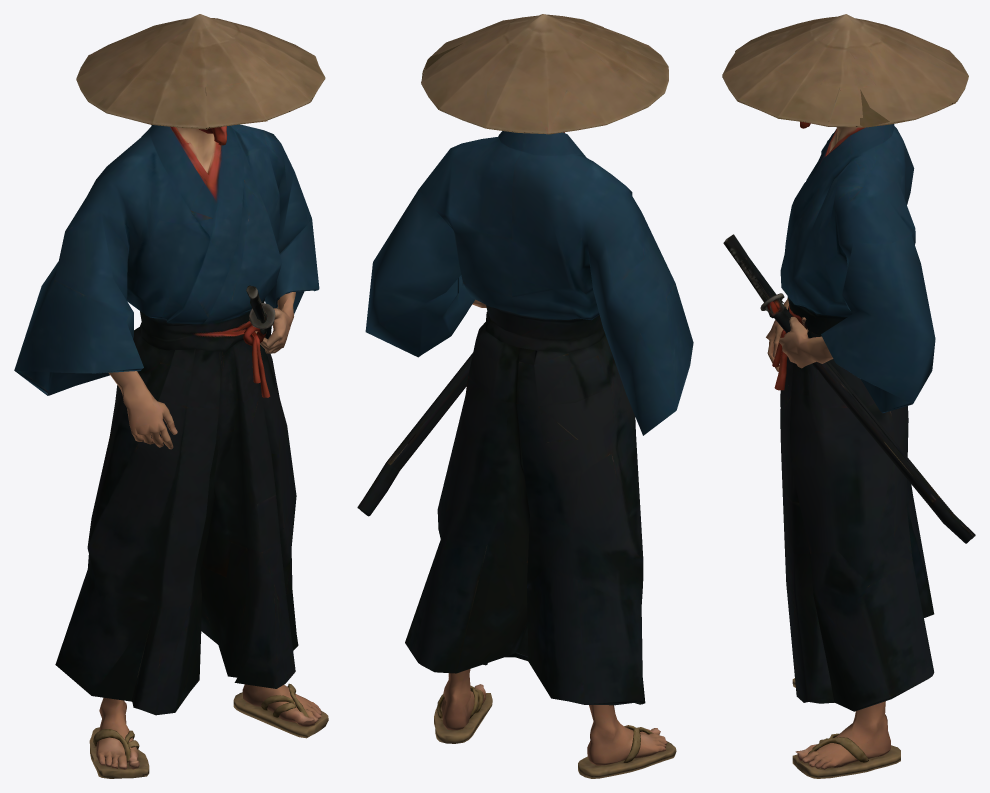
3 views of the same model, side by side, from view 1: azimuth 30°, elevation 25°; view 2: azimuth 150°, elevation 25°; view 3: azimuth 270°, elevation 25° (orthographic). The views are drawn at different scales.
Visible parts, largest first — view 1: geometry_0; view 2: geometry_0; view 3: geometry_0.
Part boxes in pixels (x1,y1,x2,y2): geometry_0: [14, 14, 328, 778]; geometry_0: [357, 14, 693, 778]; geometry_0: [722, 14, 975, 778].
Bounding box in the file's own units: 0.7869 × 1.8 × 0.5819.
1 material, 1 textured.
